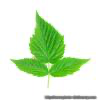Raspberry leaf: (28, 9, 66, 63), (49, 56, 92, 78), (10, 57, 49, 78)
